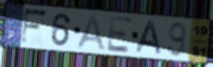6: (51, 11, 72, 47)
9: (166, 21, 189, 58)
A: (75, 13, 108, 52), (135, 20, 163, 56)
E: (106, 14, 135, 55)
F: (19, 8, 49, 47)
